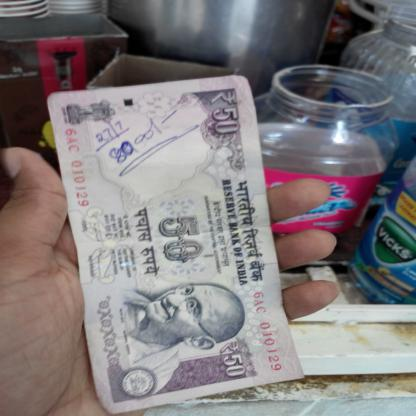Old50Front: (47, 76, 306, 415)
